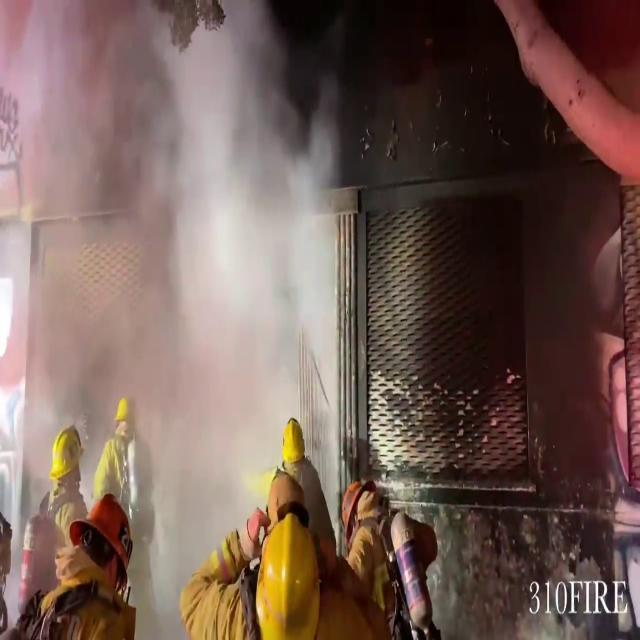Smoke: (2, 0, 351, 534)
